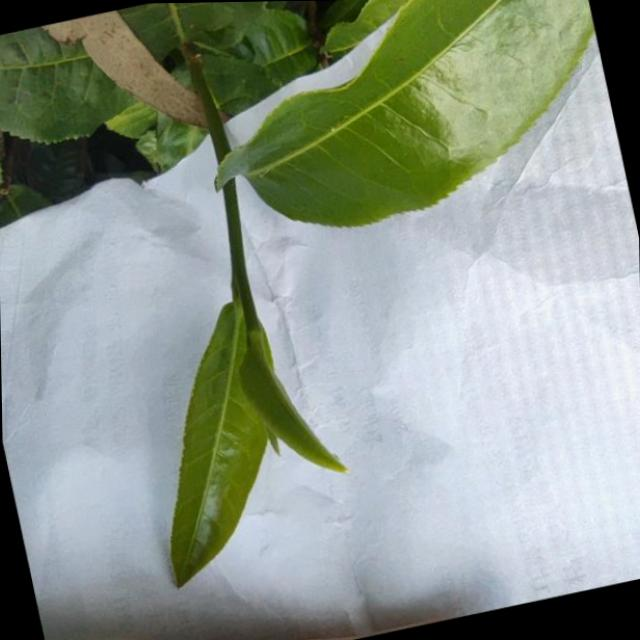Stem: (232, 265, 247, 285)
